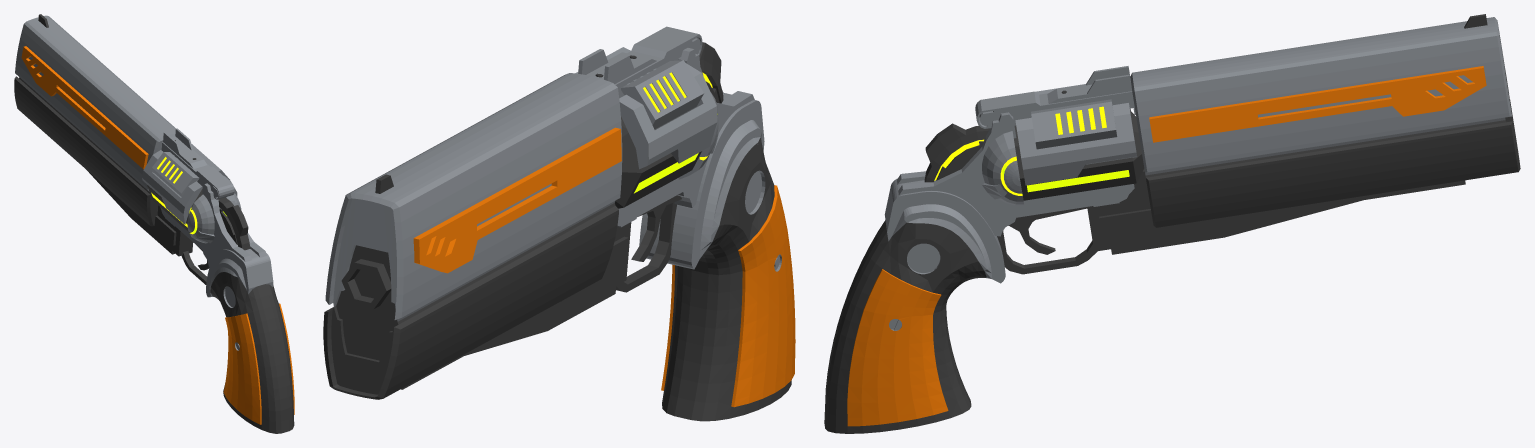
The model's file is magnum.glb.
3 views of the same model, side by side, from view 1: azimuth 30°, elevation 25°; view 2: azimuth 150°, elevation 25°; view 3: azimuth 270°, elevation 25° (orthographic). The views are drawn at different scales.
Visible parts, largest first — view 1: magnum; view 2: magnum; view 3: magnum.
Part boxes in pixels (<box>): magnum: <box>14,14,294,433</box>; magnum: <box>323,26,795,421</box>; magnum: <box>824,14,1520,433</box>.
Bounding box in the file's own units: 0.0527 × 0.2047 × 0.3287.
Materials: 1 (1 with a texture image).
